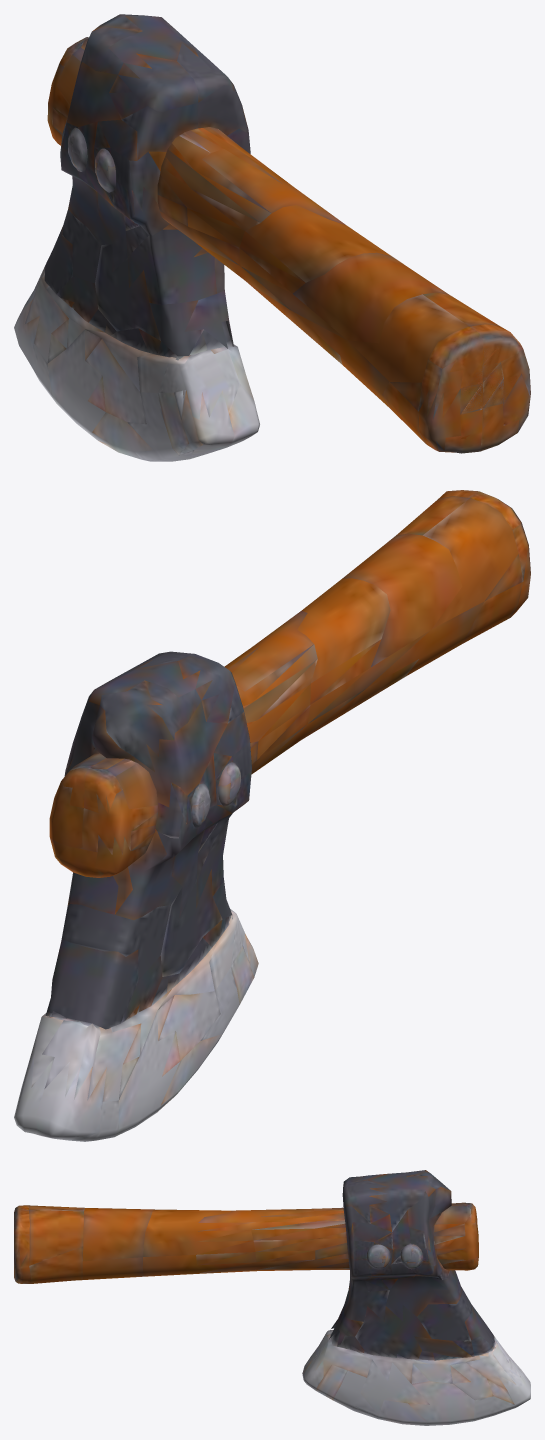
Rendered from tool_axe.glb.
3 renders of one model, top to bottom at view 1: azimuth 30°, elevation 25°; view 2: azimuth 150°, elevation 25°; view 3: azimuth 270°, elevation 25°, orthographic. The views are drawn at different scales.
Bounding box in the file's own units: 0.1754 × 0.5225 × 1.
1 material, 1 textured.
